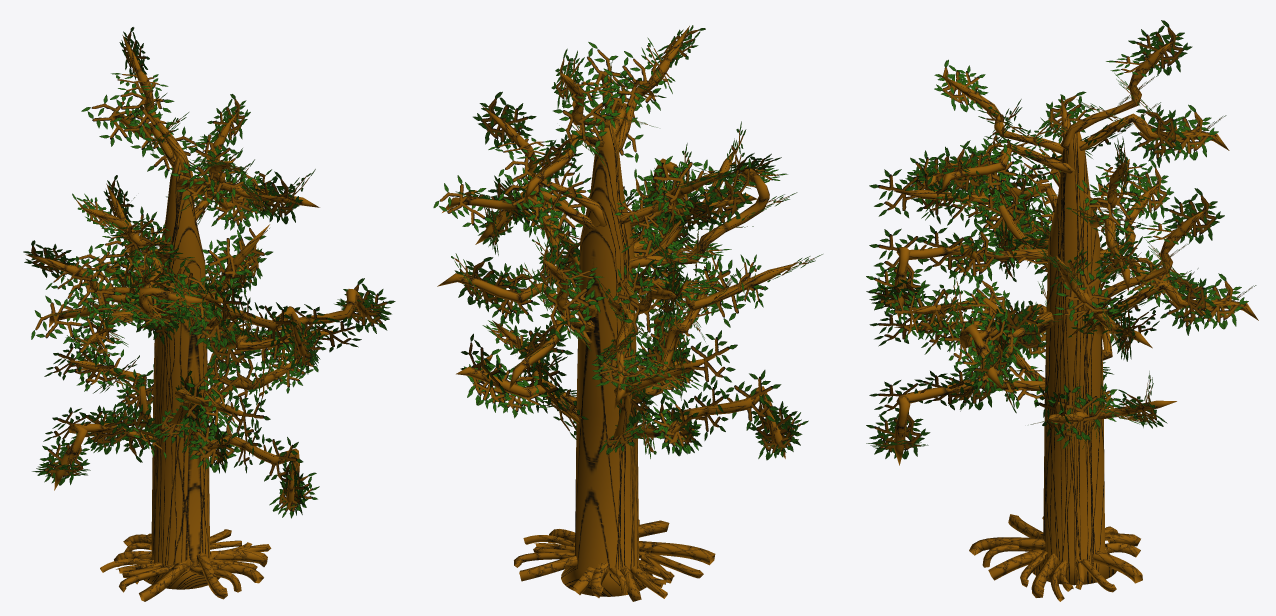
The model's file is trees2.obj.
The picture shows the model from 3 angles, left to right: view 1: azimuth 30°, elevation 25°; view 2: azimuth 150°, elevation 25°; view 3: azimuth 270°, elevation 25°; orthographic projection. The views are drawn at different scales.
Visible parts, largest first — view 1: tree; view 2: tree; view 3: tree.
Part boxes in pixels (box(x1,y1,x2,y2)): tree: box(23, 27, 395, 601); tree: box(433, 25, 822, 601); tree: box(866, 20, 1258, 601).
Bounding box in the file's own units: 13 × 19.54 × 13.07.
